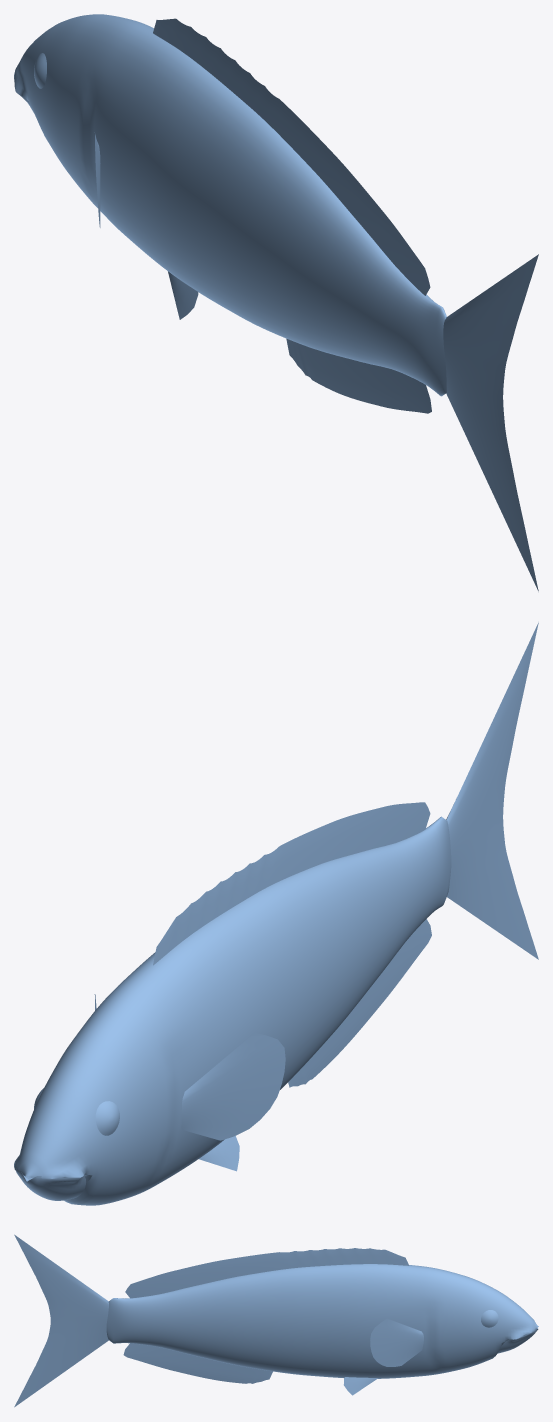
File: wrasse_moon.glb
3 renders of one model, top to bottom at view 1: azimuth 30°, elevation 25°; view 2: azimuth 150°, elevation 25°; view 3: azimuth 270°, elevation 25°, orthographic. The views are drawn at different scales.
Parts seen in each view (by area): view 1: wrasse_moon; view 2: wrasse_moon; view 3: wrasse_moon.
Part boxes in pixels (left/top/right/bottom): wrasse_moon: left=14, top=14, right=538, bottom=591; wrasse_moon: left=14, top=622, right=538, bottom=1205; wrasse_moon: left=14, top=1234, right=538, bottom=1407.
Size of the model in its own units: 0.0533 by 0.0913 by 0.2505.
